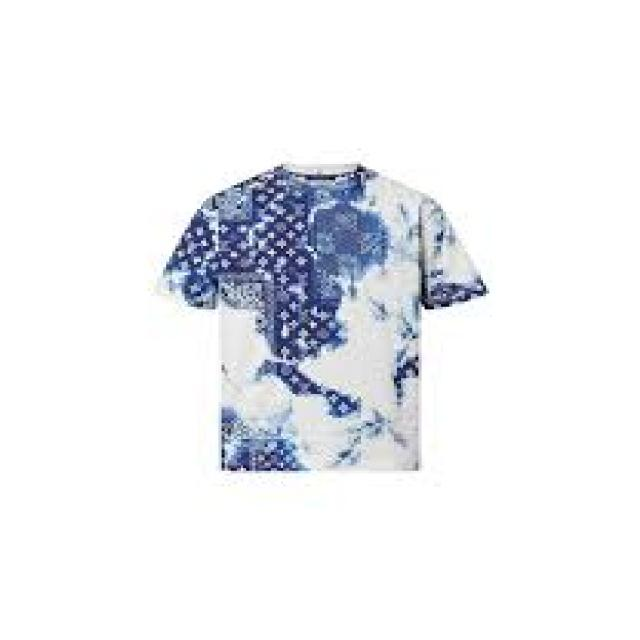shirt: (161, 165, 487, 468)
